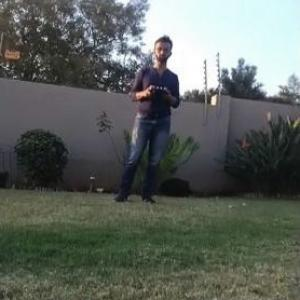follow: (110, 27, 185, 204)
